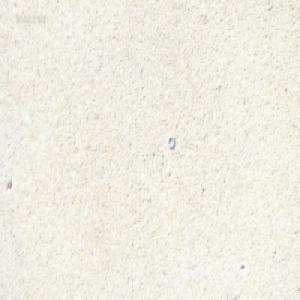Washer: (167, 136, 175, 151)
